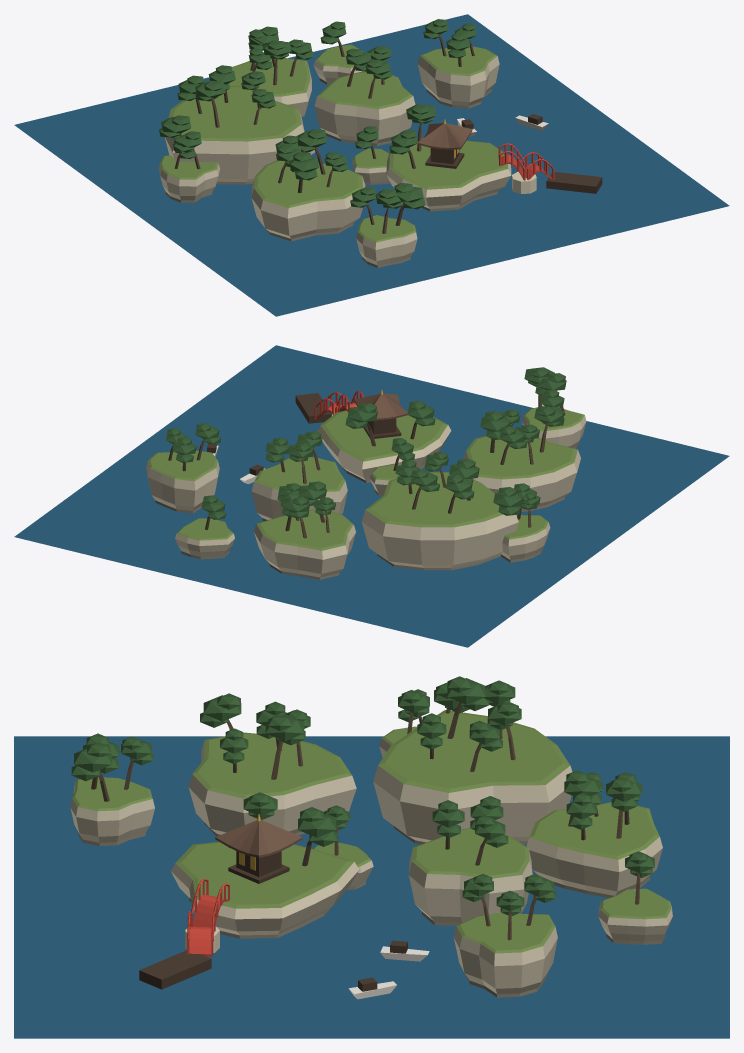
File: matsushima.glb
3 views of the same model, one above another, from view 1: azimuth 30°, elevation 25°; view 2: azimuth 150°, elevation 25°; view 3: azimuth 270°, elevation 25° (orthographic). The views are drawn at different scales.
Parts seen in each view (by area): view 1: matsushima_water, matsushima_grass, matsushima_tuff, matsushima_pine, matsushima_bark, matsushima_darkwood, matsushima_tuffdk, matsushima_bark2, matsushima_red; view 2: matsushima_water, matsushima_grass, matsushima_tuff, matsushima_pine, matsushima_bark, matsushima_darkwood, matsushima_tuffdk, matsushima_bark2, matsushima_red; view 3: matsushima_water, matsushima_grass, matsushima_tuff, matsushima_pine, matsushima_darkwood, matsushima_bark, matsushima_tuffdk, matsushima_bark2, matsushima_red, matsushima_white.
Part boxes in pixels (<box>): matsushima_water: <box>14,14,729,316</box>; matsushima_grass: <box>160,44,508,242</box>; matsushima_tuff: <box>158,56,536,265</box>; matsushima_pine: <box>159,19,476,209</box>; matsushima_bark: <box>174,34,474,233</box>; matsushima_darkwood: <box>301,114,602,193</box>; matsushima_tuffdk: <box>165,78,497,267</box>; matsushima_bark2: <box>417,123,472,149</box>; matsushima_red: <box>498,143,554,180</box>; matsushima_water: <box>14,345,729,647</box>; matsushima_grass: <box>148,405,584,550</box>; matsushima_tuff: <box>146,414,586,577</box>; matsushima_pine: <box>166,367,566,519</box>; matsushima_bark: <box>168,394,565,538</box>; matsushima_darkwood: <box>207,393,401,475</box>; matsushima_tuffdk: <box>154,441,579,579</box>; matsushima_bark2: <box>354,393,407,420</box>; matsushima_red: <box>314,390,364,419</box>; matsushima_water: <box>14,736,729,1038</box>; matsushima_grass: <box>72,710,670,953</box>; matsushima_tuff: <box>70,738,672,994</box>; matsushima_pine: <box>71,676,654,915</box>; matsushima_darkwood: <box>139,851,407,991</box>; matsushima_bark: <box>91,702,640,940</box>; matsushima_tuffdk: <box>78,822,665,997</box>; matsushima_bark2: <box>215,820,302,857</box>; matsushima_red: <box>187,879,229,956</box>; matsushima_white: <box>348,946,429,999</box>.
Bounding box in the file's own units: 22.4 × 4.71 × 22.4.
